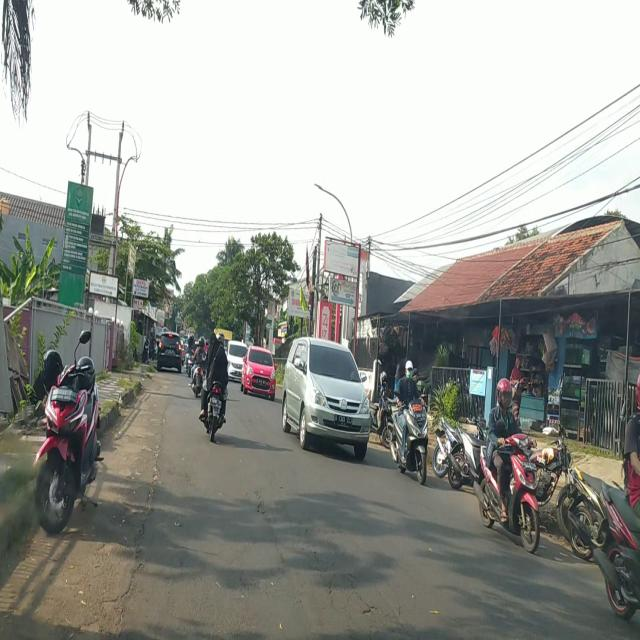Drain Hole: (248, 499, 398, 640)
